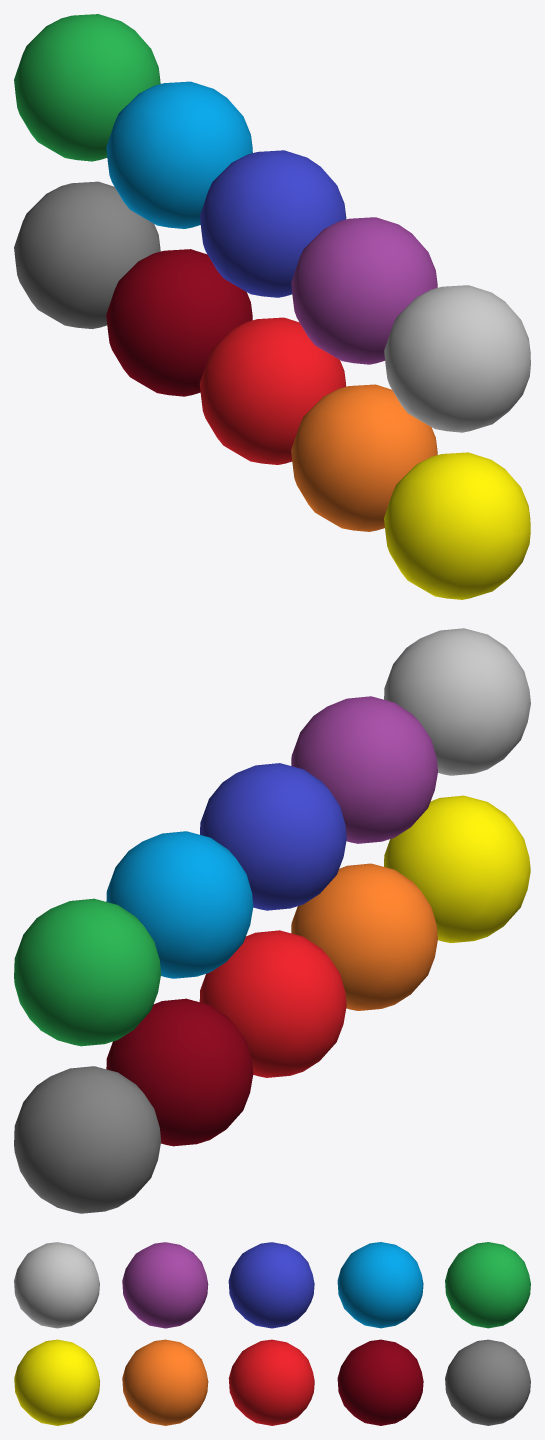
The model's file is Enemies.fbx.
3 views of the same model, one above another, from view 1: azimuth 30°, elevation 25°; view 2: azimuth 150°, elevation 25°; view 3: azimuth 270°, elevation 25° (orthographic). The views are drawn at different scales.
Visible parts, largest first — view 1: Enemy10, Enemy5, Enemy7, Enemy9, Enemy6, Enemy8, Enemy2, Enemy4, Enemy1, Enemy3; view 2: Enemy1, Enemy6, Enemy8, Enemy10, Enemy7, Enemy9, Enemy3, Enemy5, Enemy2, Enemy4; view 3: Enemy2, Enemy3, Enemy9, Enemy10, Enemy6, Enemy8, Enemy7, Enemy1, Enemy4, Enemy5.
Part boxes in pixels (x1,y1,x2,y2): Enemy10: (384, 285, 530, 432); Enemy5: (384, 452, 530, 599); Enemy7: (106, 81, 252, 228); Enemy9: (291, 217, 437, 364); Enemy6: (14, 14, 160, 161); Enemy8: (200, 150, 346, 297); Enemy2: (106, 249, 252, 396); Enemy4: (291, 384, 437, 531); Enemy1: (14, 181, 160, 328); Enemy3: (199, 317, 346, 464); Enemy1: (14, 1066, 161, 1213); Enemy6: (14, 898, 160, 1046); Enemy8: (200, 763, 346, 910); Enemy10: (384, 628, 530, 775); Enemy7: (106, 831, 253, 978); Enemy9: (291, 696, 437, 843); Enemy3: (199, 930, 346, 1077); Enemy5: (384, 795, 530, 942); Enemy2: (106, 998, 253, 1146); Enemy4: (291, 863, 437, 1010); Enemy2: (337, 1339, 423, 1425); Enemy3: (228, 1339, 314, 1425); Enemy9: (122, 1242, 208, 1328); Enemy10: (14, 1242, 99, 1328); Enemy6: (445, 1242, 530, 1328); Enemy8: (228, 1242, 314, 1328); Enemy7: (337, 1242, 423, 1328); Enemy1: (445, 1339, 530, 1425); Enemy4: (122, 1339, 208, 1425); Enemy5: (14, 1339, 100, 1425).
Size of what is drawn, in the model's own units: 8 by 18.02 by 48.09.
